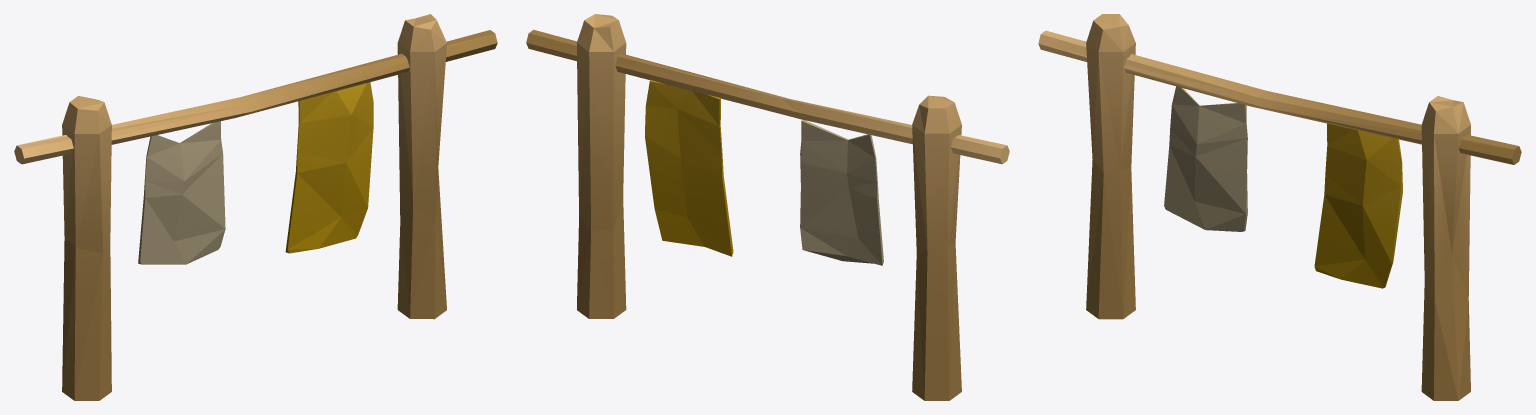
The model's file is HangingCloth.gltf.
3 views of the same model, side by side, from view 1: azimuth 30°, elevation 25°; view 2: azimuth 150°, elevation 25°; view 3: azimuth 330°, elevation 25° (orthographic).
Parts seen in each view (by area): view 1: HangingRod.001, Cloth_Yellow.001, Cloth_Grey.001; view 2: HangingRod.001, Cloth_Yellow.001, Cloth_Grey.001; view 3: HangingRod.001, Cloth_Yellow.001, Cloth_Grey.001.
Part boxes in pixels (<box>): HangingRod.001: <box>14,14,497,400</box>; Cloth_Yellow.001: <box>285,82,373,253</box>; Cloth_Grey.001: <box>138,121,225,264</box>; HangingRod.001: <box>526,14,1009,400</box>; Cloth_Yellow.001: <box>645,80,733,256</box>; Cloth_Grey.001: <box>800,120,883,265</box>; HangingRod.001: <box>1038,14,1521,400</box>; Cloth_Yellow.001: <box>1314,123,1402,288</box>; Cloth_Grey.001: <box>1164,86,1247,231</box>.
Bounding box in the file's own units: 2.05 × 1.2 × 0.1867.
1 material, 1 textured.
